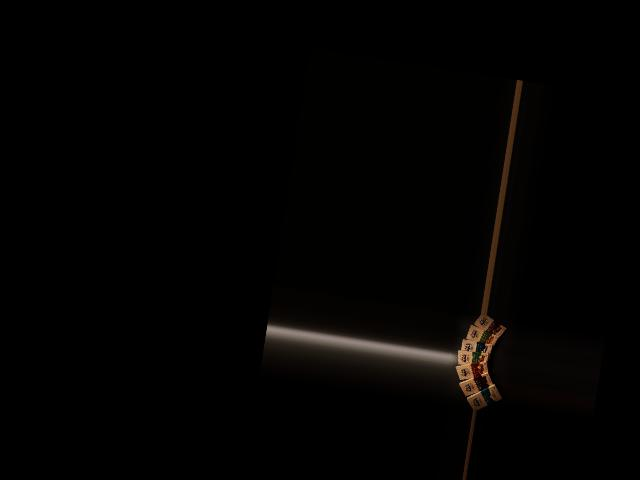chocolate: (464, 380, 506, 414)
